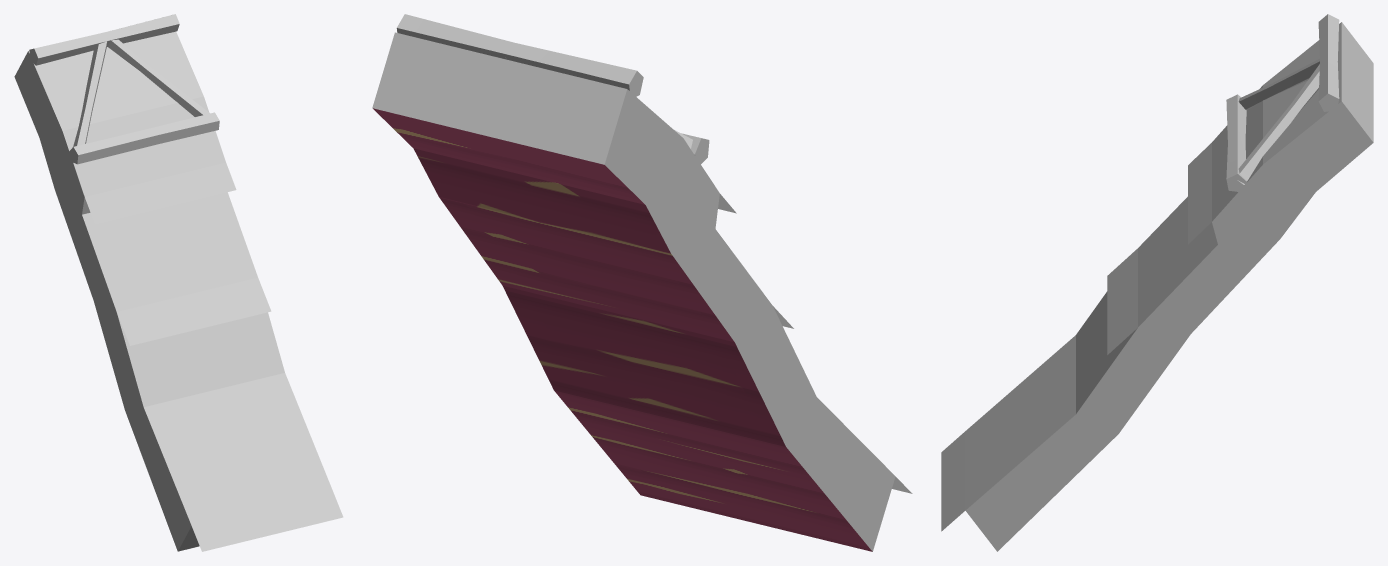
The model's file is SM_Bld_Roof_Thatch_Half_01.fbx.
3 renders of one model, left to right at view 1: azimuth 30°, elevation 25°; view 2: azimuth 150°, elevation 25°; view 3: azimuth 270°, elevation 25°, orthographic. The views are drawn at different scales.
Parts seen in each view (by area): view 1: SM_Bld_Roof_Thatch_Half_01; view 2: SM_Bld_Roof_Thatch_Half_01; view 3: SM_Bld_Roof_Thatch_Half_01.
Boxes of the visible parts, x1,y1,x2,y2 form: SM_Bld_Roof_Thatch_Half_01: (14,14,343,551); SM_Bld_Roof_Thatch_Half_01: (372,14,912,551); SM_Bld_Roof_Thatch_Half_01: (941,14,1373,551).
Size of the model in its own units: 126 by 336 by 287.
